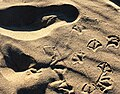human_foot_print: (2, 43, 65, 83), (0, 4, 83, 32)
